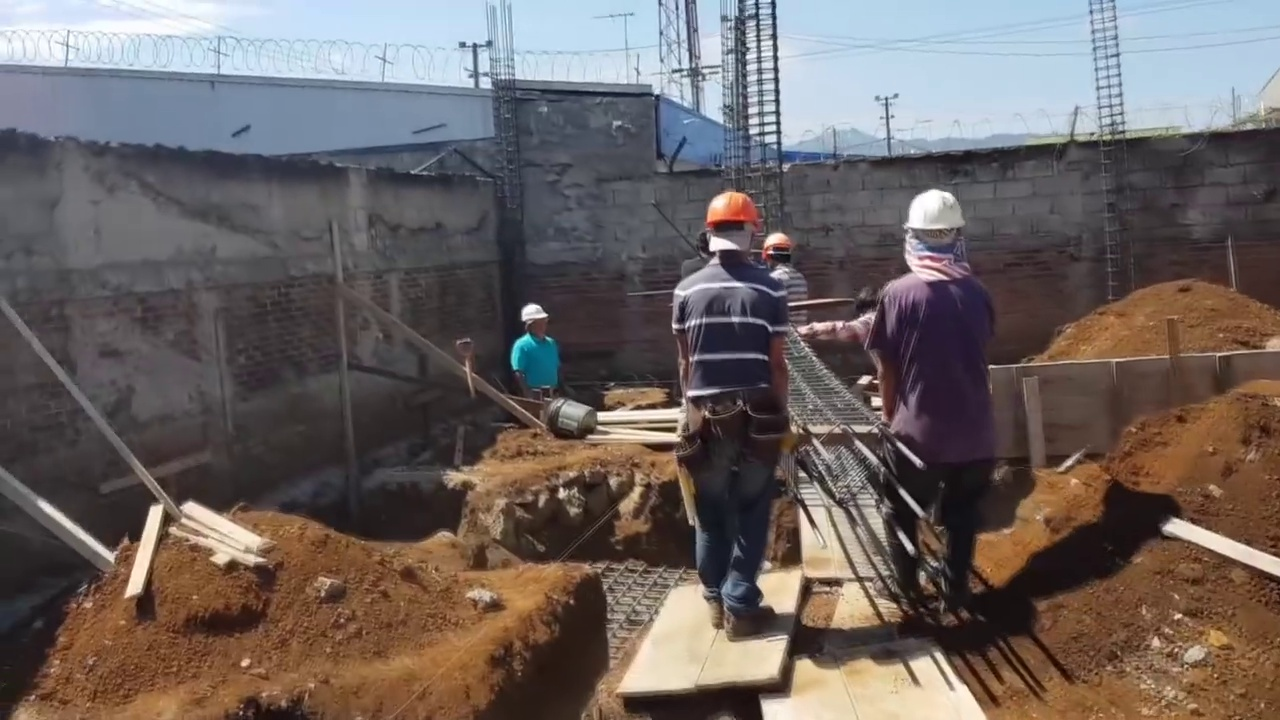helmet: (907, 187, 966, 239), (701, 191, 759, 233), (762, 232, 792, 261), (518, 305, 546, 324)
helmet-off: (852, 284, 884, 322)
helmet-on: (906, 190, 973, 278), (700, 190, 760, 271), (761, 231, 795, 270), (520, 304, 550, 339)
person: (826, 193, 1006, 641), (670, 193, 818, 653), (800, 280, 890, 382), (508, 301, 562, 390), (758, 233, 809, 316)
